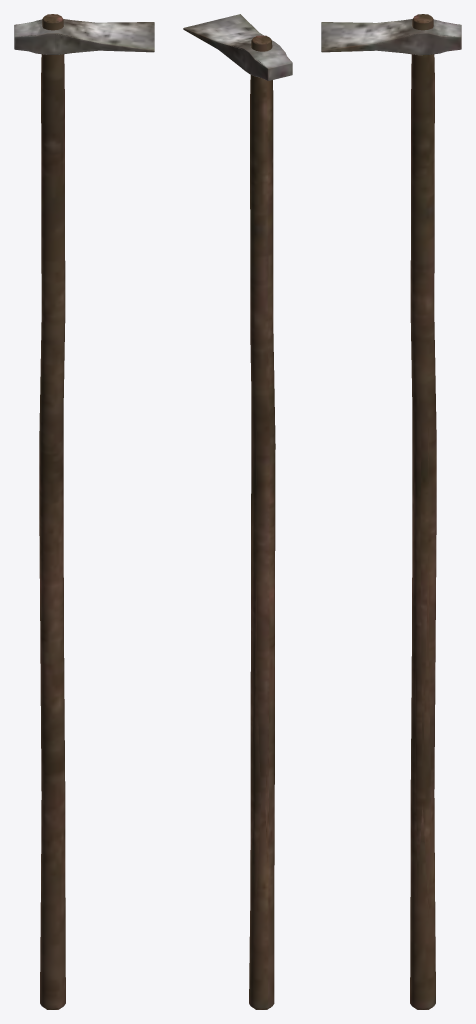
Rendered from Hoe.glb.
3 renders of one model, left to right at view 1: azimuth 90°, elevation 25°; view 2: azimuth 210°, elevation 25°; view 3: azimuth 270°, elevation 25°, orthographic. The views are drawn at different scales.
Visible parts, largest first — view 1: Hoe; view 2: Hoe; view 3: Hoe.
Part boxes in pixels (<box>): Hoe: <box>14,14,154,1009</box>; Hoe: <box>183,14,292,1009</box>; Hoe: <box>321,14,461,1009</box>.
Size of the model in its own units: 0.104 by 1.67 by 0.215.
Materials: 1 (1 with a texture image).
